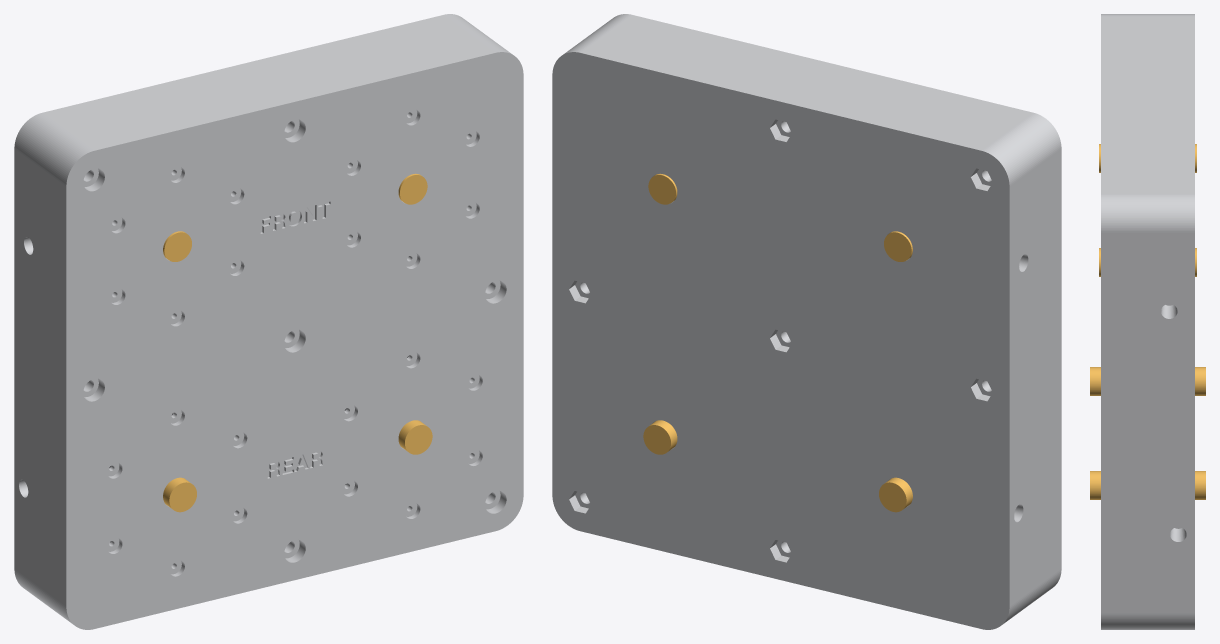
The model's file is mold2.glb.
3 views of the same model, side by side, from view 1: azimuth 30°, elevation 25°; view 2: azimuth 150°, elevation 25°; view 3: azimuth 270°, elevation 25° (orthographic). The views are drawn at different scales.
Parts seen in each view (by area): view 1: mold_top, mold_bottom, core_1, core_0, core_3, core_2; view 2: mold_bottom, mold_top, core_1, core_0, core_3, core_2; view 3: mold_bottom, mold_top, core_0, core_1.
Part boxes in pixels (x1,y1,x2,y2): mold_top: [40, 33, 523, 629]; mold_bottom: [14, 14, 486, 604]; core_1: [398, 420, 432, 454]; core_0: [163, 477, 196, 512]; core_3: [398, 173, 427, 204]; core_2: [163, 231, 191, 261]; mold_bottom: [552, 33, 1035, 629]; mold_top: [589, 14, 1061, 604]; core_1: [643, 420, 677, 454]; core_0: [879, 477, 912, 512]; core_3: [648, 173, 677, 204]; core_2: [884, 231, 912, 261]; mold_bottom: [1148, 14, 1194, 629]; mold_top: [1101, 14, 1147, 629]; core_0: [1090, 367, 1205, 395]; core_1: [1090, 471, 1205, 499].
Size of the model in its own units: 132 by 132 by 32.
